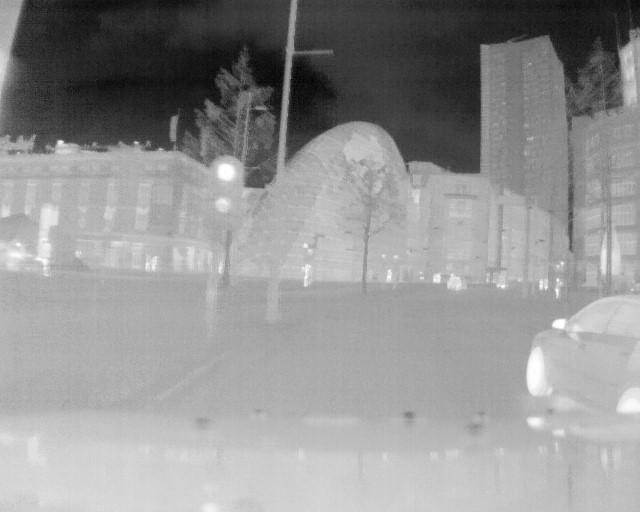car: (526, 295, 639, 414), (444, 274, 466, 291)
person: (40, 241, 53, 275), (552, 273, 560, 297)
